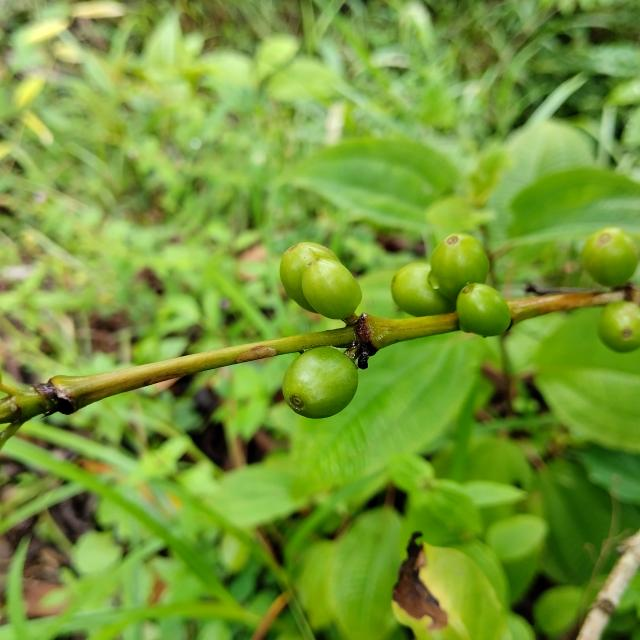green: (282, 347, 358, 419), (280, 242, 339, 312), (431, 233, 490, 300), (302, 258, 362, 320), (391, 262, 456, 317), (583, 226, 639, 286), (457, 283, 512, 337), (599, 301, 640, 353)
